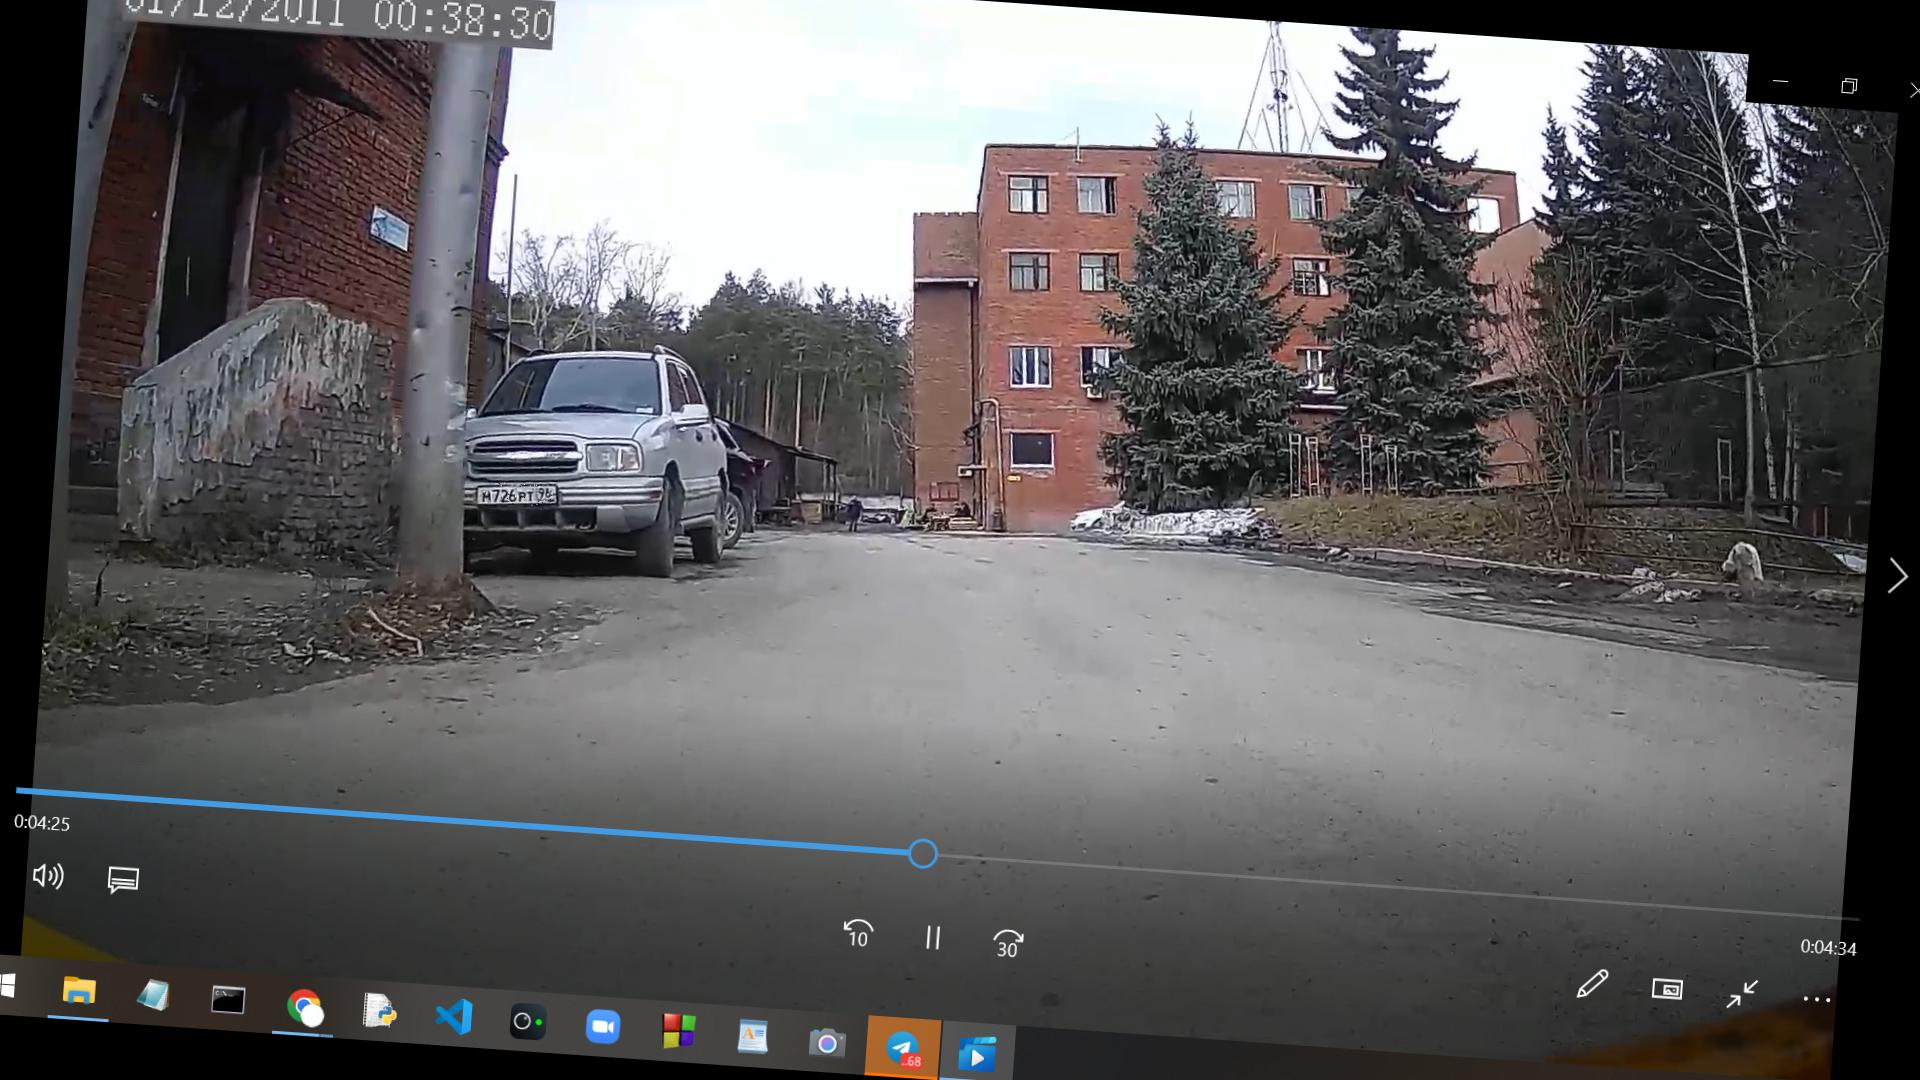plate: (480, 482, 557, 510)
